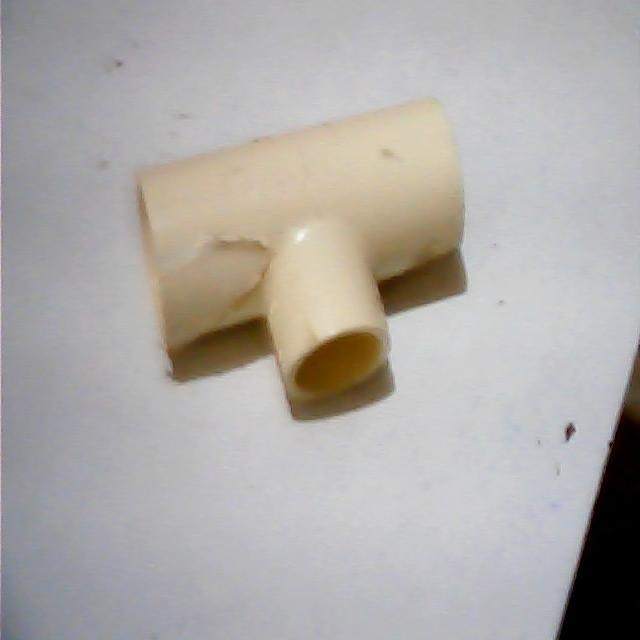Defective: (168, 218, 263, 348), (180, 242, 273, 337)
T Joint: (135, 98, 464, 424)
